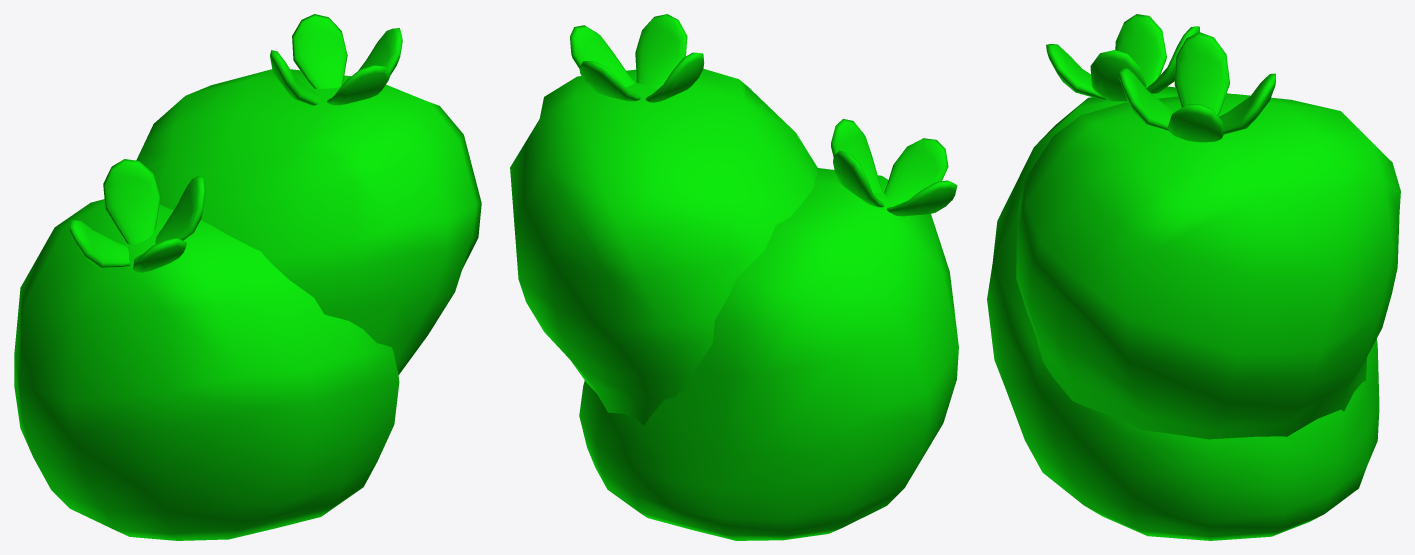
The model's file is m_splitterwhole.fbx.
The picture shows the model from 3 angles, left to right: view 1: azimuth 30°, elevation 25°; view 2: azimuth 150°, elevation 25°; view 3: azimuth 270°, elevation 25°; orthographic projection. The views are drawn at different scales.
Visible parts, largest first — view 1: m_splitterwhole; view 2: m_splitterwhole; view 3: m_splitterwhole.
Part boxes in pixels (x1,y1,x2,y2): m_splitterwhole: (14,14,481,540); m_splitterwhole: (510,14,958,540); m_splitterwhole: (987,14,1400,540).
Size of the model in its own units: 1.96 by 1.9 by 1.49.
